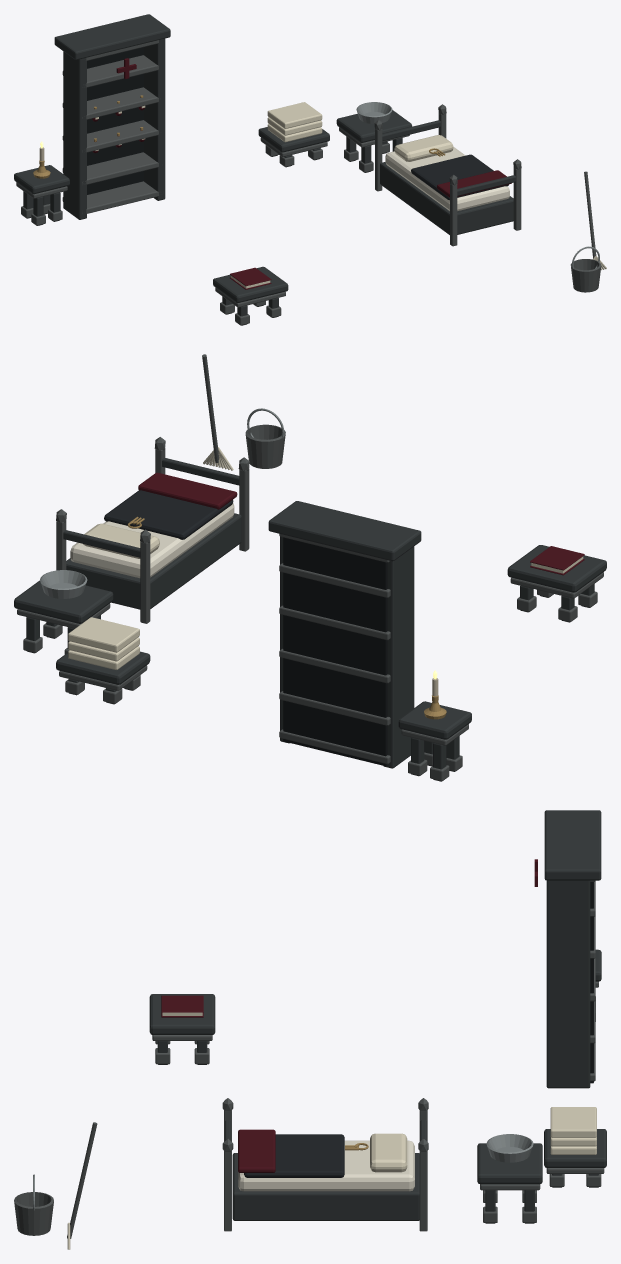
The model's file is ROOM_servants.glb.
The picture shows the model from 3 angles, top to bottom: view 1: azimuth 30°, elevation 25°; view 2: azimuth 150°, elevation 25°; view 3: azimuth 270°, elevation 25°; orthographic projection. The views are drawn at different scales.
Visible parts, largest first — view 1: ROOM_servants__wood, ROOM_servants__woodedge, ROOM_servants__coal, ROOM_servants__paper, ROOM_servants__ivory, ROOM_servants__cloth, ROOM_servants__redshadow, ROOM_servants__steel; view 2: ROOM_servants__wood, ROOM_servants__coal, ROOM_servants__woodedge, ROOM_servants__paper, ROOM_servants__cloth, ROOM_servants__ivory, ROOM_servants__redshadow, ROOM_servants__steel; view 3: ROOM_servants__wood, ROOM_servants__woodedge, ROOM_servants__ivory, ROOM_servants__paper, ROOM_servants__cloth, ROOM_servants__redshadow, ROOM_servants__steel, ROOM_servants__coal.
Boxes of the visible parts, x1,y1,x2,y2 form: ROOM_servants__wood: (14,14,515,325); ROOM_servants__woodedge: (16,40,601,325); ROOM_servants__coal: (87,47,143,194); ROOM_servants__paper: (95,102,453,288); ROOM_servants__ivory: (385,146,509,210); ROOM_servants__cloth: (411,154,508,200); ROOM_servants__redshadow: (92,58,511,289); ROOM_servants__steel: (356,102,599,269); ROOM_servants__wood: (14,457,606,781); ROOM_servants__coal: (283,537,387,766); ROOM_servants__woodedge: (17,354,603,781); ROOM_servants__paper: (68,523,583,669); ROOM_servants__cloth: (104,490,233,539); ROOM_servants__ivory: (70,503,234,578); ROOM_servants__redshadow: (138,472,584,575); ROOM_servants__steel: (40,408,284,598); ROOM_servants__wood: (149,810,606,1223); ROOM_servants__woodedge: (14,880,604,1238); ROOM_servants__ivory: (238,1140,414,1191); ROOM_servants__paper: (162,1012,596,1172); ROOM_servants__cloth: (244,1134,344,1177); ROOM_servants__redshadow: (161,859,537,1172); ROOM_servants__steel: (33,1134,533,1210); ROOM_servants__coal: (590,882,593,1083).
Size of the model in its own units: 6.72 by 2.8 by 6.79.
